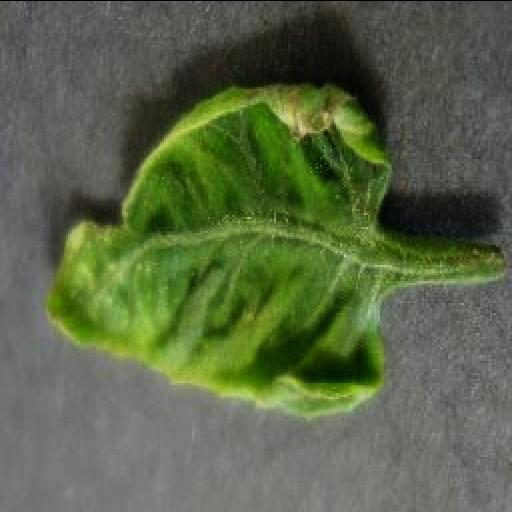disease_tomato: (42, 80, 398, 414)
